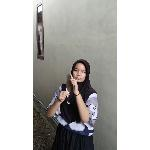Pisau: (62, 72, 76, 107)
